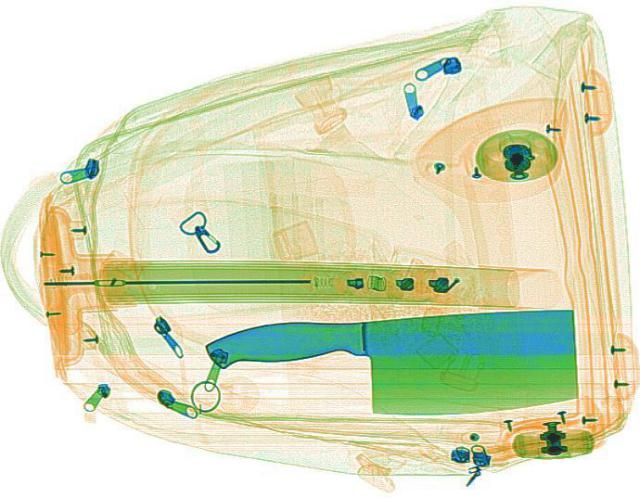Knife: (202, 304, 584, 425)
